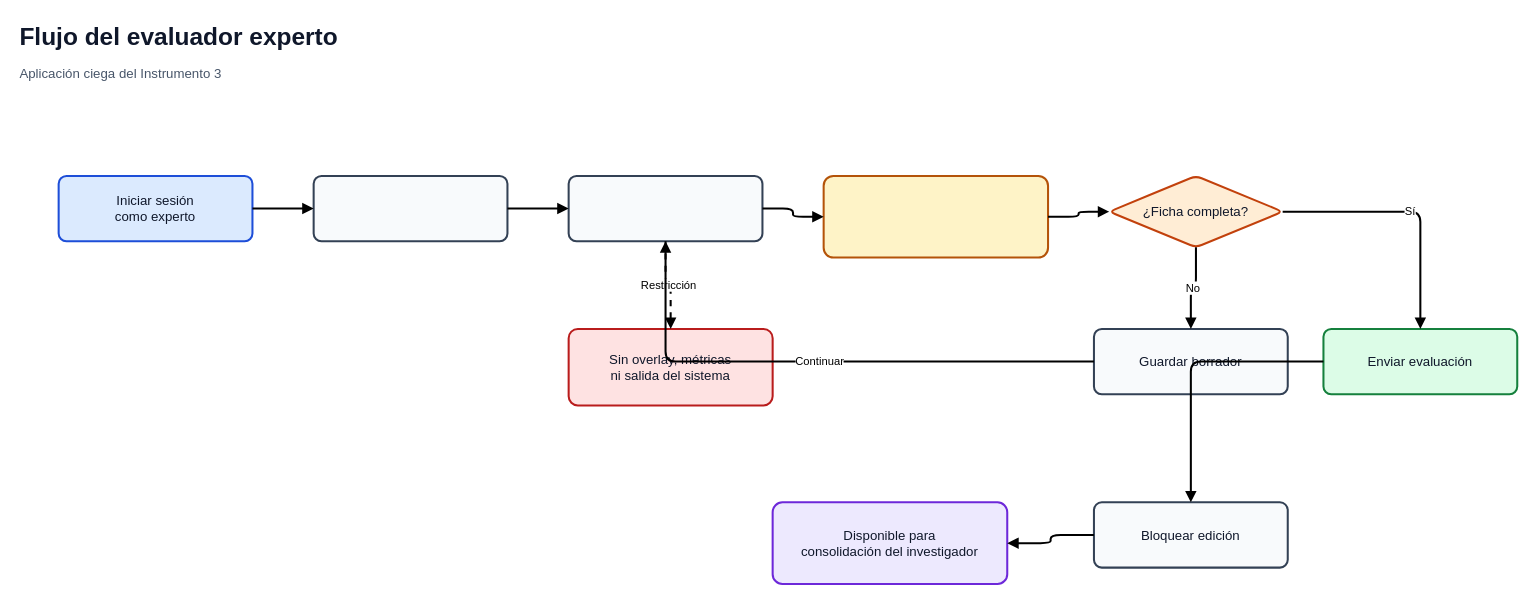
The diagram is 1535 pixels wide and 602 high, and some of its shapes have lost their labels. Each missing label, with the centre of its shape:
Clasificar cuatro patrones independientes: the point at 935,216
Consultar asignaciones propias: the point at 410,208
Reproducir video anonimizado: the point at 665,208
